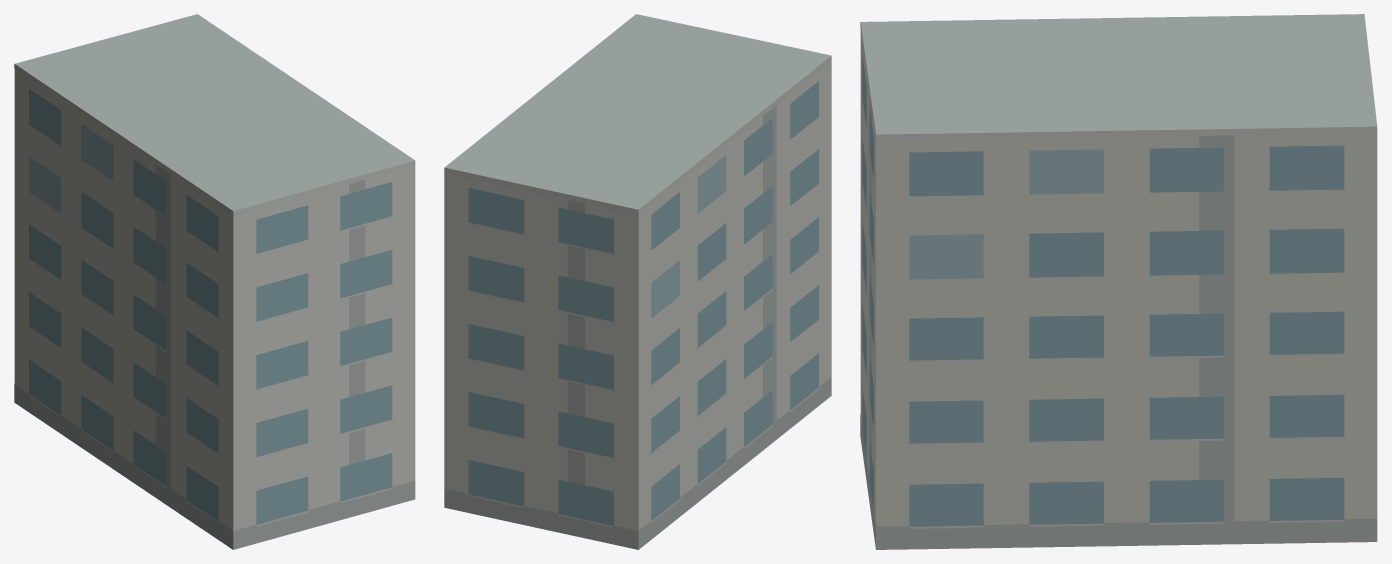
File: survey-upis-32551646.glb
3 renders of one model, left to right at view 1: azimuth 30°, elevation 25°; view 2: azimuth 150°, elevation 25°; view 3: azimuth 270°, elevation 25°, orthographic. The views are drawn at different scales.
Visible parts, largest first — view 1: survey-upis-32551646.tmp; view 2: survey-upis-32551646.tmp; view 3: survey-upis-32551646.tmp.
Boxes of the visible parts, <box> form: survey-upis-32551646.tmp: <box>14,14,415,549</box>; survey-upis-32551646.tmp: <box>444,14,831,549</box>; survey-upis-32551646.tmp: <box>860,14,1377,549</box>.
Bounding box in the file's own units: 9.66 × 15.5 × 17.49.
